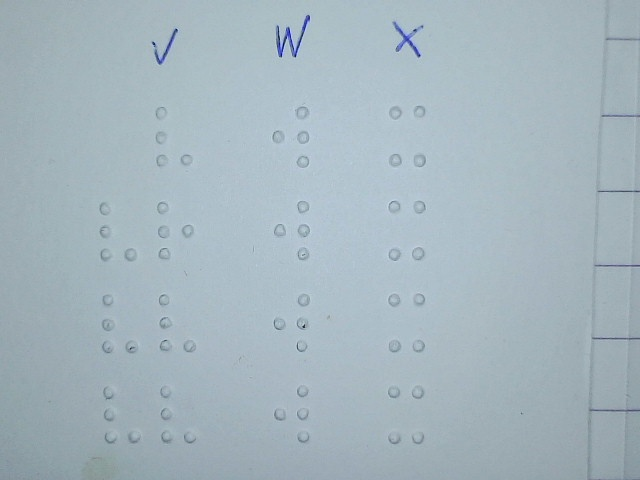V: (153, 104, 195, 169), (97, 199, 139, 264), (156, 291, 198, 356), (157, 382, 199, 447), (101, 382, 143, 447)
W: (271, 103, 313, 168), (271, 197, 313, 262), (271, 289, 313, 354), (270, 381, 312, 446)
X: (386, 103, 428, 168), (386, 197, 428, 262), (386, 290, 428, 355), (385, 381, 427, 446)
